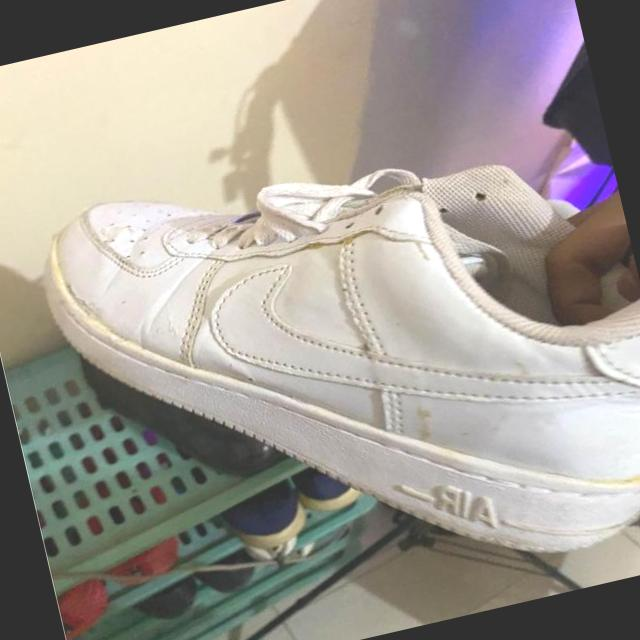nike_fake_airforce: (22, 87, 640, 640)
